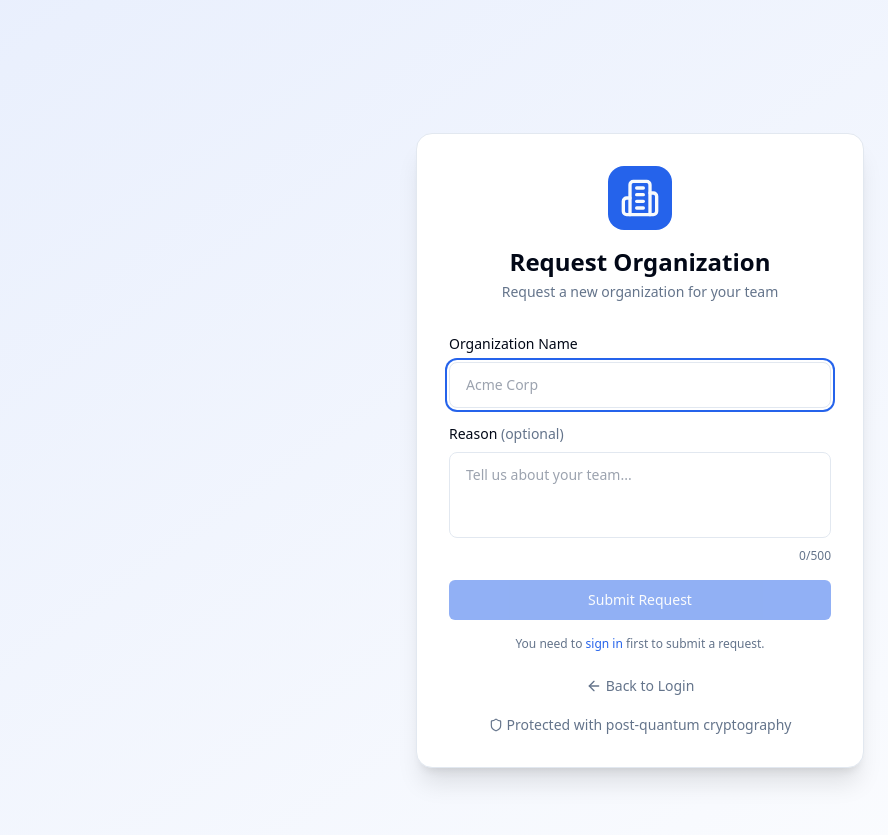
TenantRequestPage › form validation › should show error when not authenticated and trying to submit
The width and height of the screenshot is (888, 835).
# Force-enable the button by typing a name
In the field with placeholder "Acme Corp": {"x": 640, "y": 384} [449, 362, 831, 408], type "Test Org"
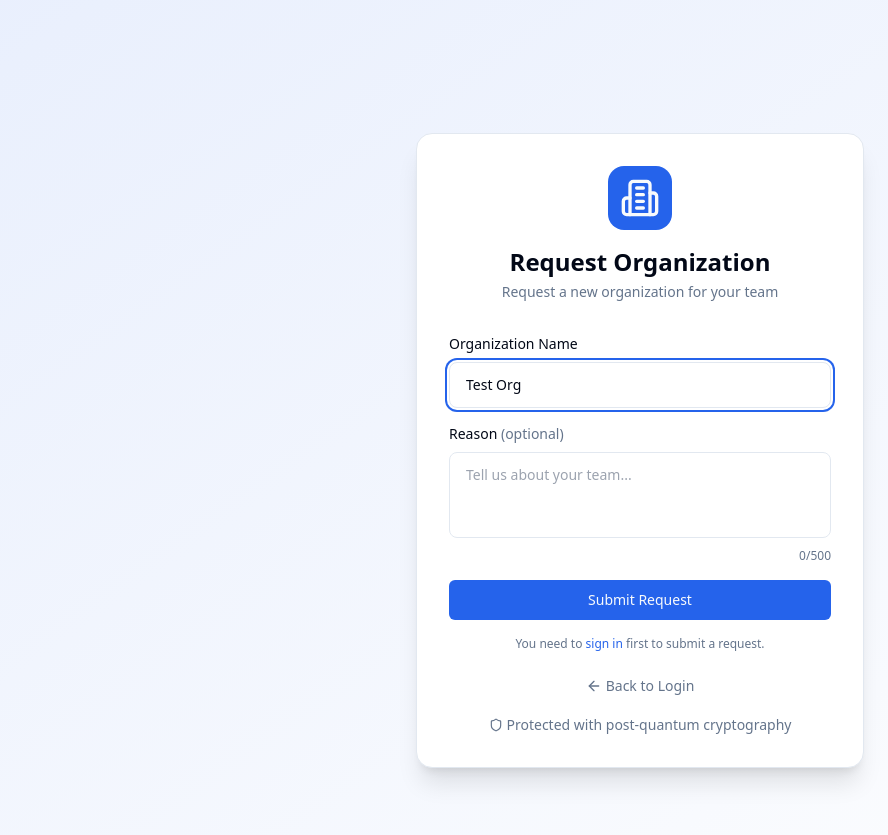
Click the button "Submit Request": {"x": 640, "y": 600} [449, 580, 831, 620]
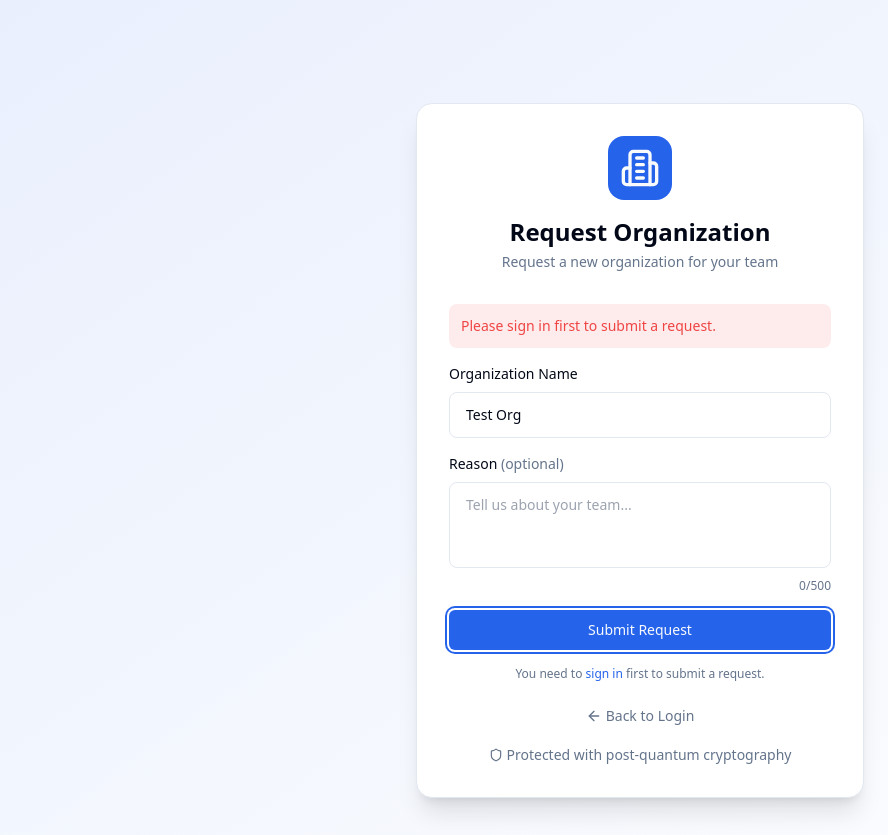
Now the text "Please sign in first to submit a request." is shown, box [449, 304, 831, 348]
